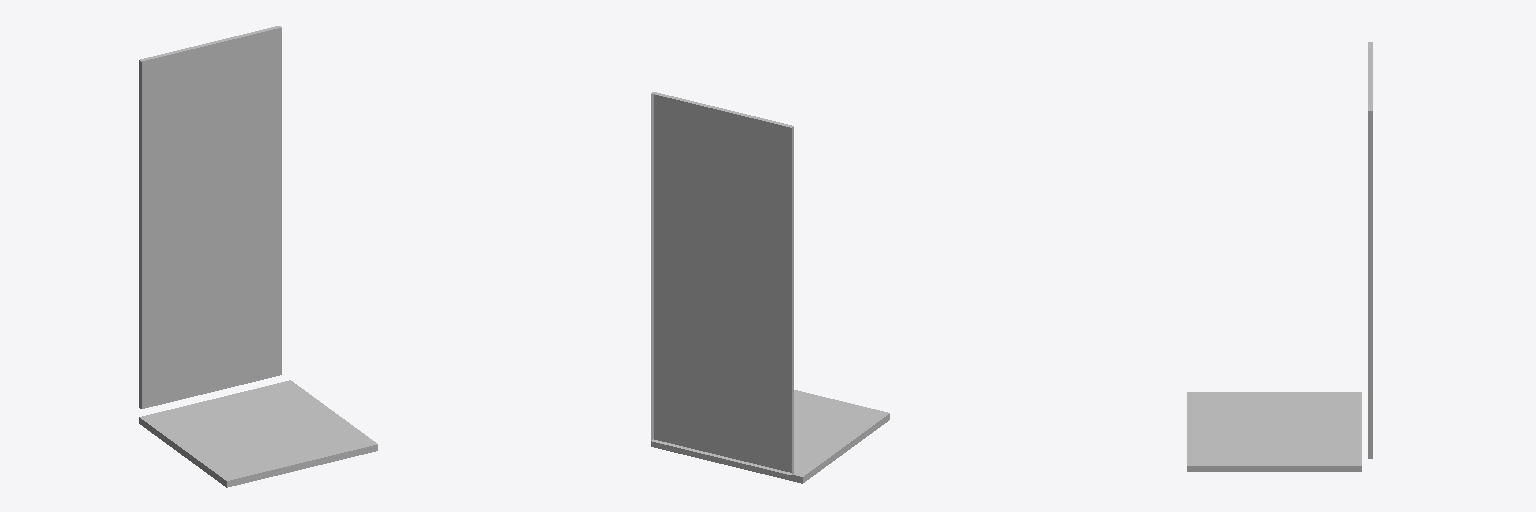
The model's file is Cushion.obj.
The picture shows the model from 3 angles: view 1: azimuth 30°, elevation 25°; view 2: azimuth 150°, elevation 25°; view 3: azimuth 270°, elevation 25°; orthographic projection.
Visible parts, largest first — view 1: ChairSeat; view 2: ChairSeat; view 3: ChairSeat.
Part boxes in pixels (bbox=[...]): ChairSeat: bbox=[139, 26, 377, 487]; ChairSeat: bbox=[651, 92, 889, 483]; ChairSeat: bbox=[1187, 42, 1372, 471].
Size of the model in its own units: 0.9333 by 2.11 by 0.9923.